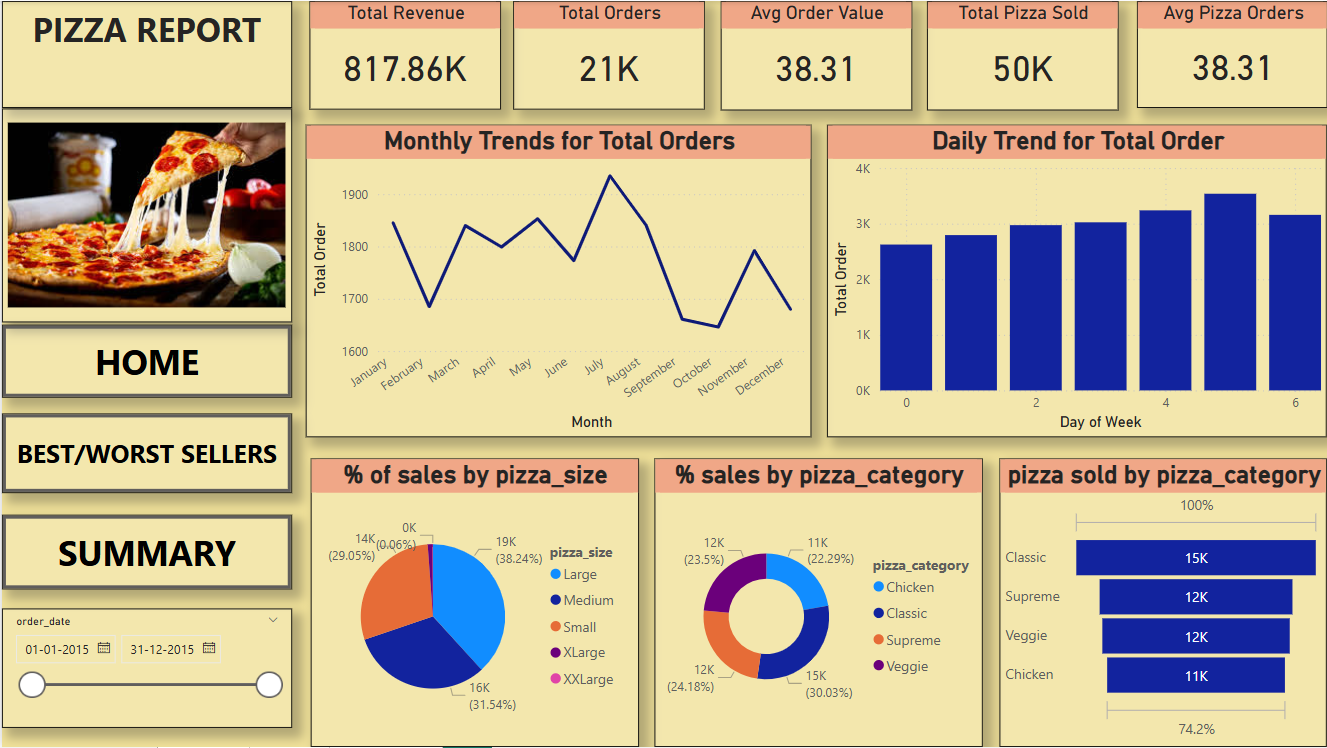

Layout of this report page (visuals, bound fields, positions):
{"tool":"powerbi","page":{"name":"Home","canvas":[1280,720],"ordinal":0},"visuals":[{"type":"pieChart","title":"% of sales by pizza_size","fields":{"Series":["pizza_sales.pizza_size"],"Y":["pizza_sales.Total pizza sold"]},"box":[298.3,441.7,316.7,278.3],"z":0},{"type":"donutChart","title":"% sales by pizza_category","fields":{"Series":["pizza_sales.pizza_category"],"Y":["pizza_sales.Total pizza sold"]},"box":[630,441.7,316.7,278.3],"z":1000},{"type":"funnel","title":"pizza sold by pizza_category","fields":{"Y":["pizza_sales.Total pizza sold"],"Category":["pizza_sales.pizza_category"]},"box":[963.3,441.7,316.7,278.3],"z":2000},{"type":"card","title":"Total Revenue","fields":{"Values":["pizza_sales.Total Revenue"]},"box":[296.7,0,185,105],"z":3000},{"type":"card","title":"Total Orders","fields":{"Values":["pizza_sales.Total Order"]},"box":[493.3,0,185,105],"z":4000},{"type":"card","title":"Avg Order Value","fields":{"Values":["pizza_sales.Avg Order Value"]},"box":[693.3,0,184.4,105.6],"z":5000},{"type":"card","title":"Total Pizza Sold","fields":{"Values":["pizza_sales.Total pizza sold"]},"box":[893.3,0,184.4,105.6],"z":6000},{"type":"card","title":"Avg Pizza Orders","fields":{"Values":["pizza_sales.Avg pizza order"]},"box":[1095,0,185,103.3],"z":7000},{"type":"textbox","box":[0,0,280,103.1],"z":8000},{"type":"image","box":[0,103.8,280,206.2],"z":9000},{"type":"actionButton","title":"HOME","box":[0,312.3,280,70.8],"z":10000},{"type":"actionButton","title":"HOME","box":[0,398.5,280,76.9],"z":11000},{"type":"actionButton","title":"HOME","box":[0,495.4,280,72.3],"z":12000},{"type":"slicer","fields":{"Values":["pizza_sales.order_date"]},"box":[0,586.2,280,115.4],"z":13000},{"type":"lineChart","title":"Monthly Trends for Total Orders","fields":{"Y":["pizza_sales.Total Order"],"Category":["pizza_sales.order_date.Variation.Date Hierarchy.Month"]},"box":[293.3,120,488.3,301.7],"z":14000},{"type":"clusteredColumnChart","title":"Daily Trend for Total Order ","fields":{"Category":["pizza_sales.Day of Week"],"Y":["pizza_sales.Total Order"]},"box":[796.7,120,483.3,301.7],"z":15000}]}

Visuals, with their boxes in screenshot pixels (x1, y1, x2, y2), scaled from the page's 1280x720 canvas onto the 1327x748 screenshot:
"% of sales by pizza_size" pieChart: [309,459,638,747]
"% sales by pizza_category" donutChart: [653,459,981,747]
"pizza sold by pizza_category" funnel: [999,459,1326,747]
"Total Revenue" card: [308,0,499,109]
"Total Orders" card: [511,0,703,109]
"Avg Order Value" card: [719,0,910,110]
"Total Pizza Sold" card: [926,0,1117,110]
"Avg Pizza Orders" card: [1135,0,1326,107]
textbox: [0,0,290,107]
image: [0,108,290,322]
"HOME" actionButton: [0,324,290,398]
"HOME" actionButton: [0,414,290,494]
"HOME" actionButton: [0,515,290,590]
slicer - pizza_sales.order_date: [0,609,290,729]
"Monthly Trends for Total Orders" lineChart: [304,125,810,438]
"Daily Trend for Total Order " clusteredColumnChart: [826,125,1326,438]
